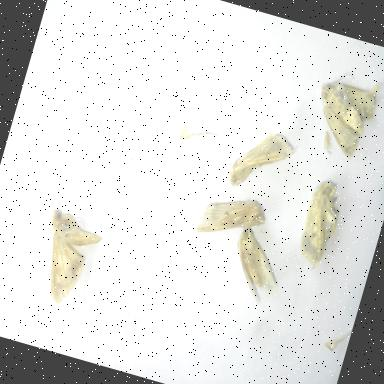abw: (26, 204, 110, 314), (302, 63, 384, 167), (222, 120, 302, 204), (220, 223, 294, 311), (288, 172, 350, 274), (191, 184, 276, 256)
